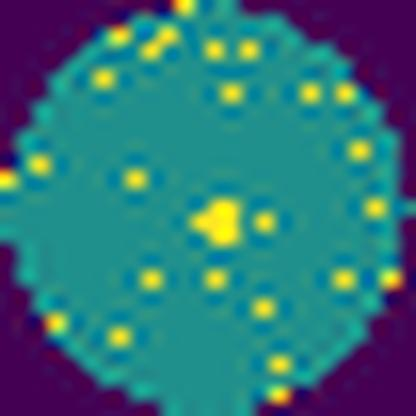Center: (183, 193, 249, 258)
